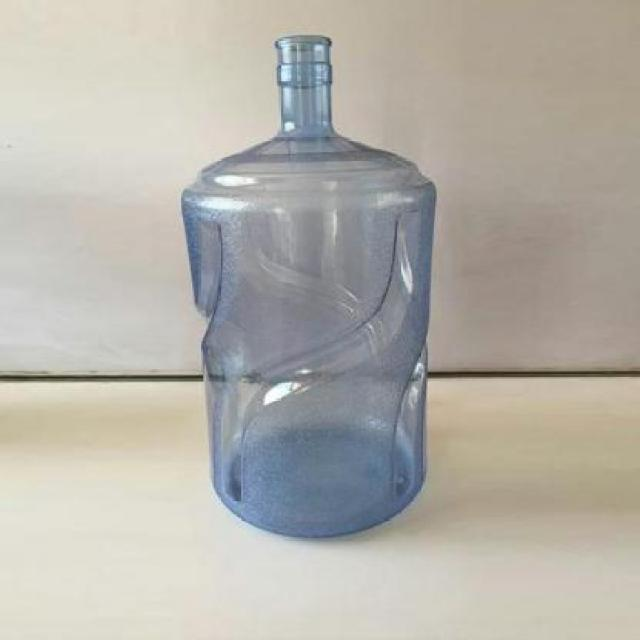coolerbottle: (175, 28, 443, 547)
